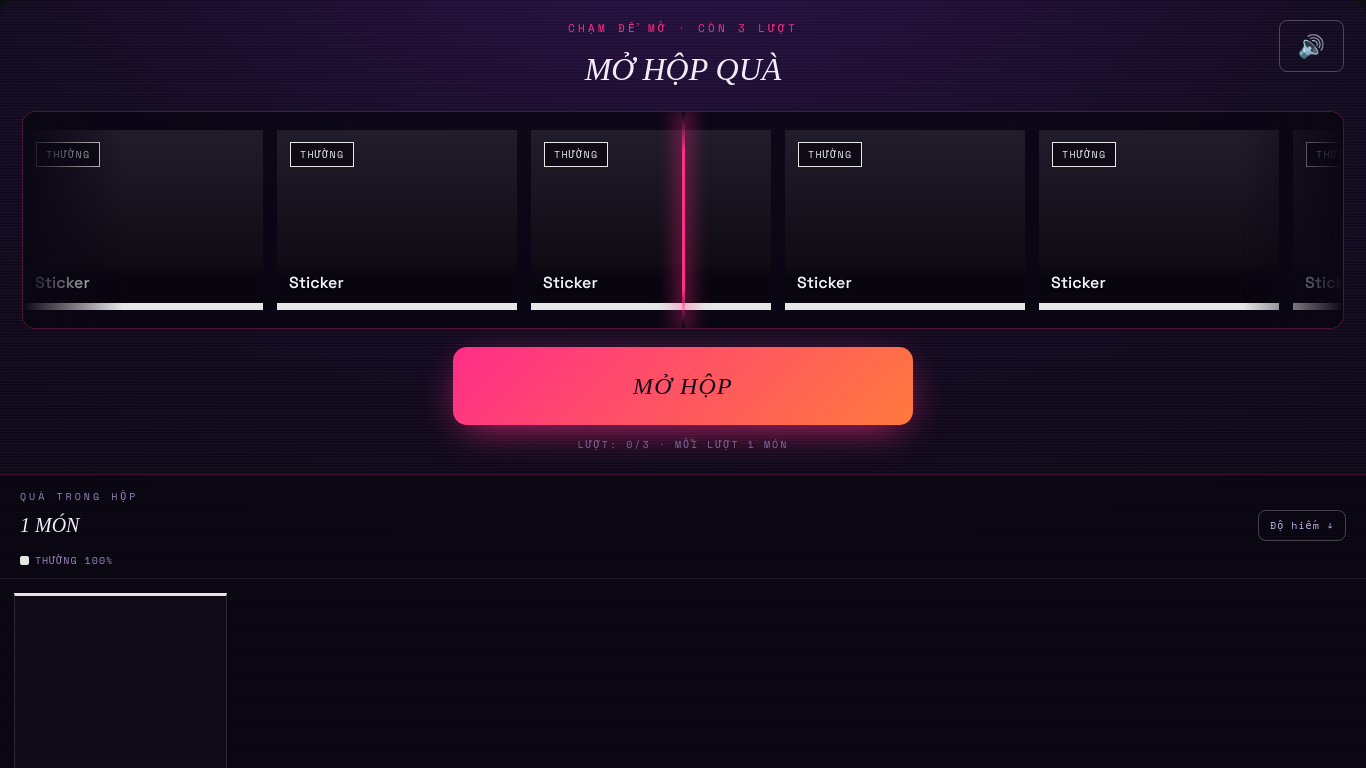
it: GachaMachine › shows the readable API message, not the machine error code, when the draw is rejected
Click the button "Mở hộp": (683,386) [453,346,913,424]
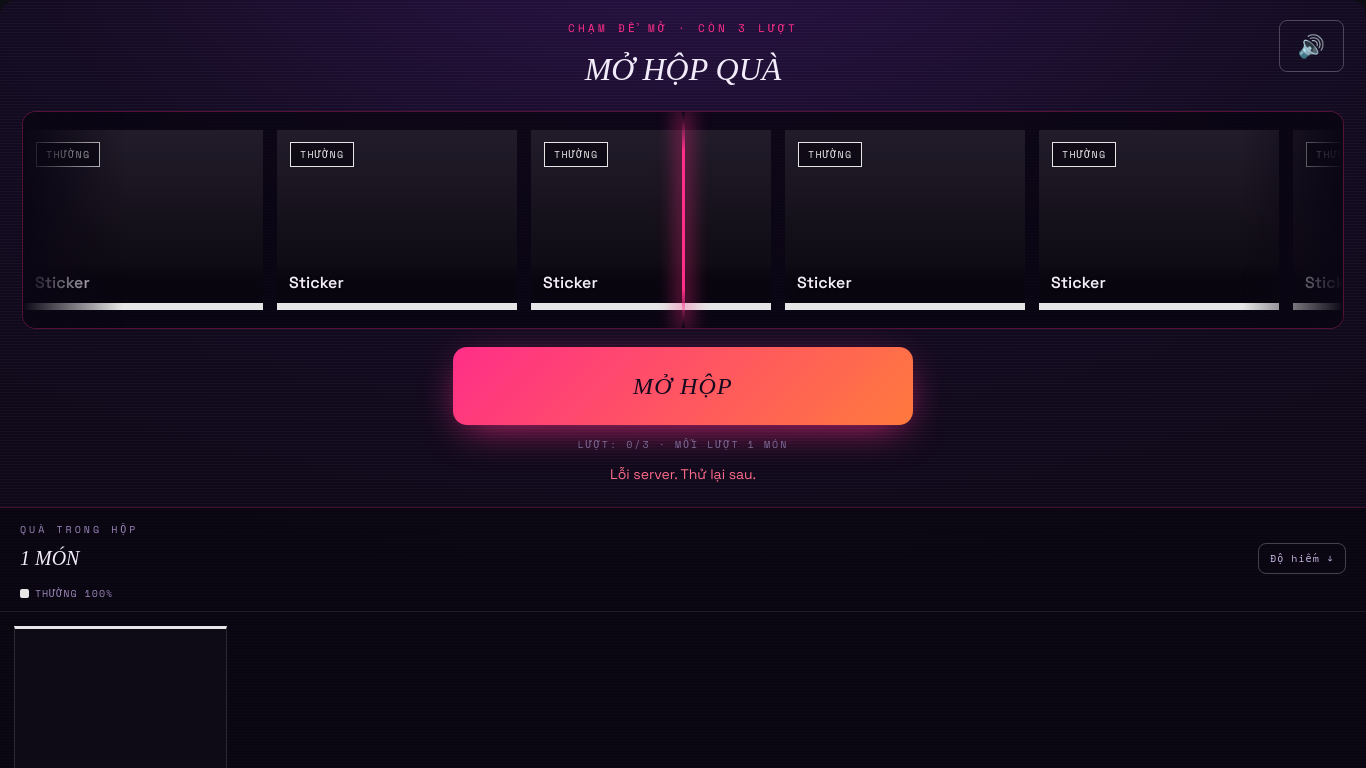
Now the text "Lỗi server. Thử lại sau." is shown, box [610,464,756,484]
